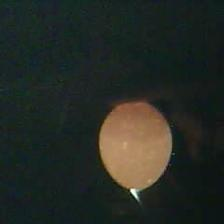infertile: (98, 101, 173, 190)
